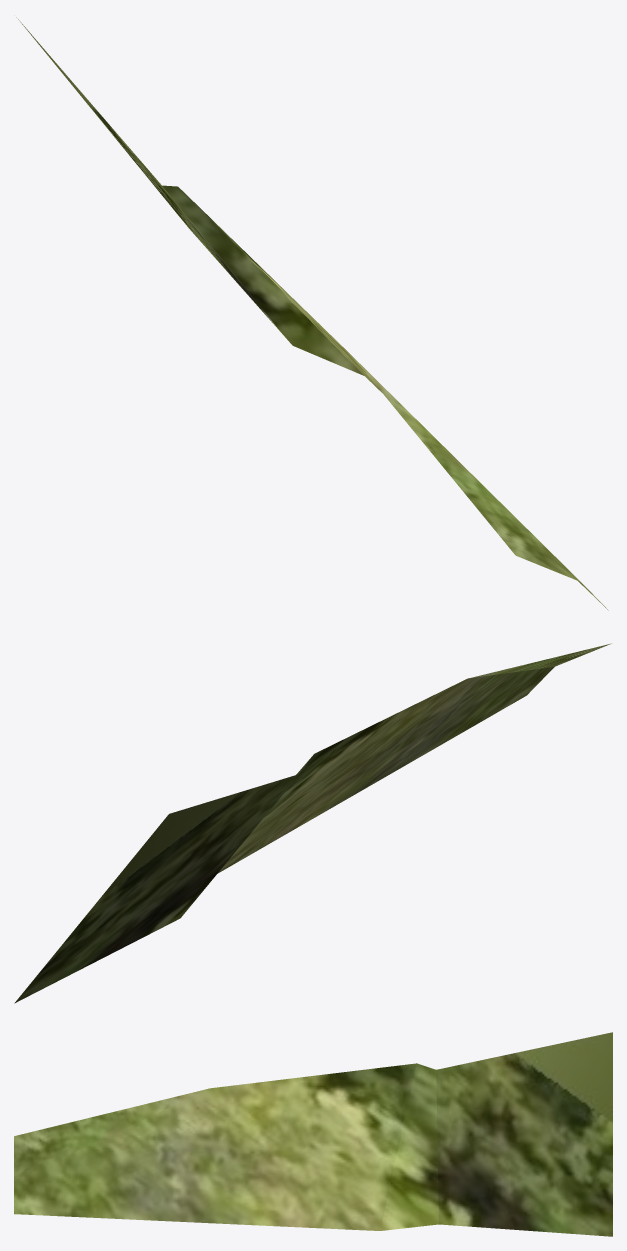
The picture shows the model from 3 angles, top to bottom: view 1: azimuth 30°, elevation 25°; view 2: azimuth 150°, elevation 25°; view 3: azimuth 270°, elevation 25°; orthographic projection. The views are drawn at different scales.
Bounding box in the file's own units: 0.5946 × 0.8345 × 2.95.
Materials: 1 (1 with a texture image).
